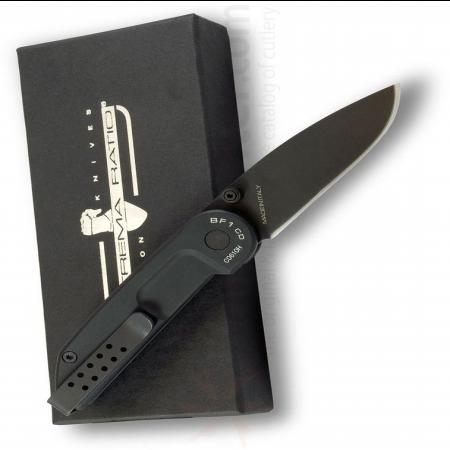long weapon: (198, 76, 410, 267)
